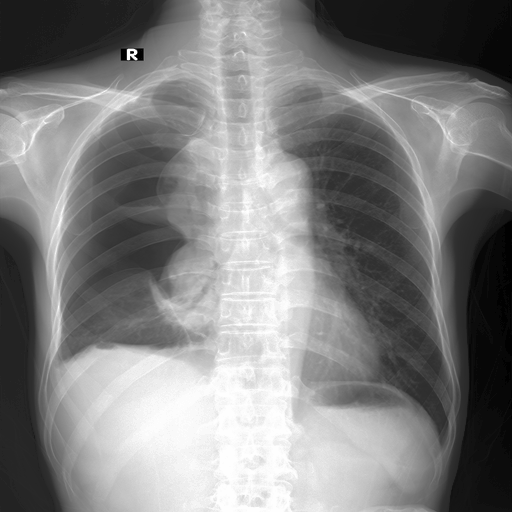Atelectasis: (49, 79, 215, 320)
Calcification: (44, 343, 91, 398)
Infiltration: (144, 277, 202, 345)
Pleural effusion: (44, 343, 91, 398)
